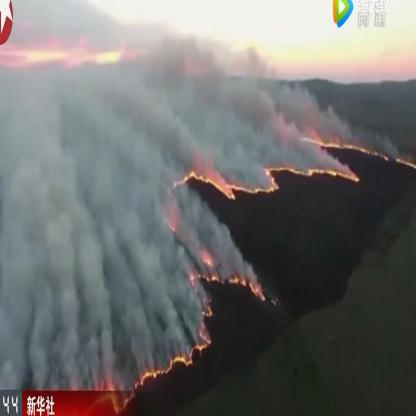smoke: (1, 72, 122, 380), (124, 47, 307, 174), (124, 180, 194, 350), (193, 210, 229, 274), (308, 102, 360, 146)
